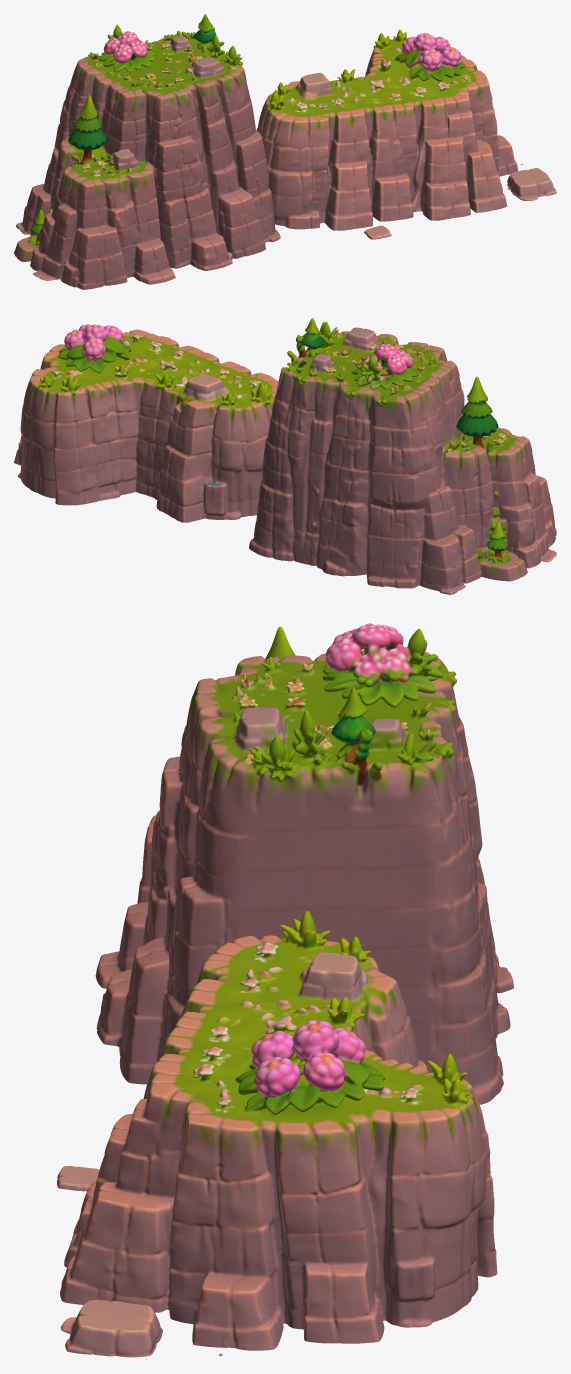
Rendered from back-cliffs-merged-01.glb.
The picture shows the model from 3 angles, top to bottom: view 1: azimuth 30°, elevation 25°; view 2: azimuth 150°, elevation 25°; view 3: azimuth 270°, elevation 25°; orthographic projection. The views are drawn at different scales.
Parts seen in each view (by area): view 1: back-cliffs-merged; view 2: back-cliffs-merged; view 3: back-cliffs-merged.
Part boxes in pixels (x1,y1,x2,y2): back-cliffs-merged: (14,14,556,289); back-cliffs-merged: (14,318,556,594); back-cliffs-merged: (57,623,513,1359).
Size of the model in its own units: 19.96 by 7.69 by 8.16.
1 material, 1 textured.
